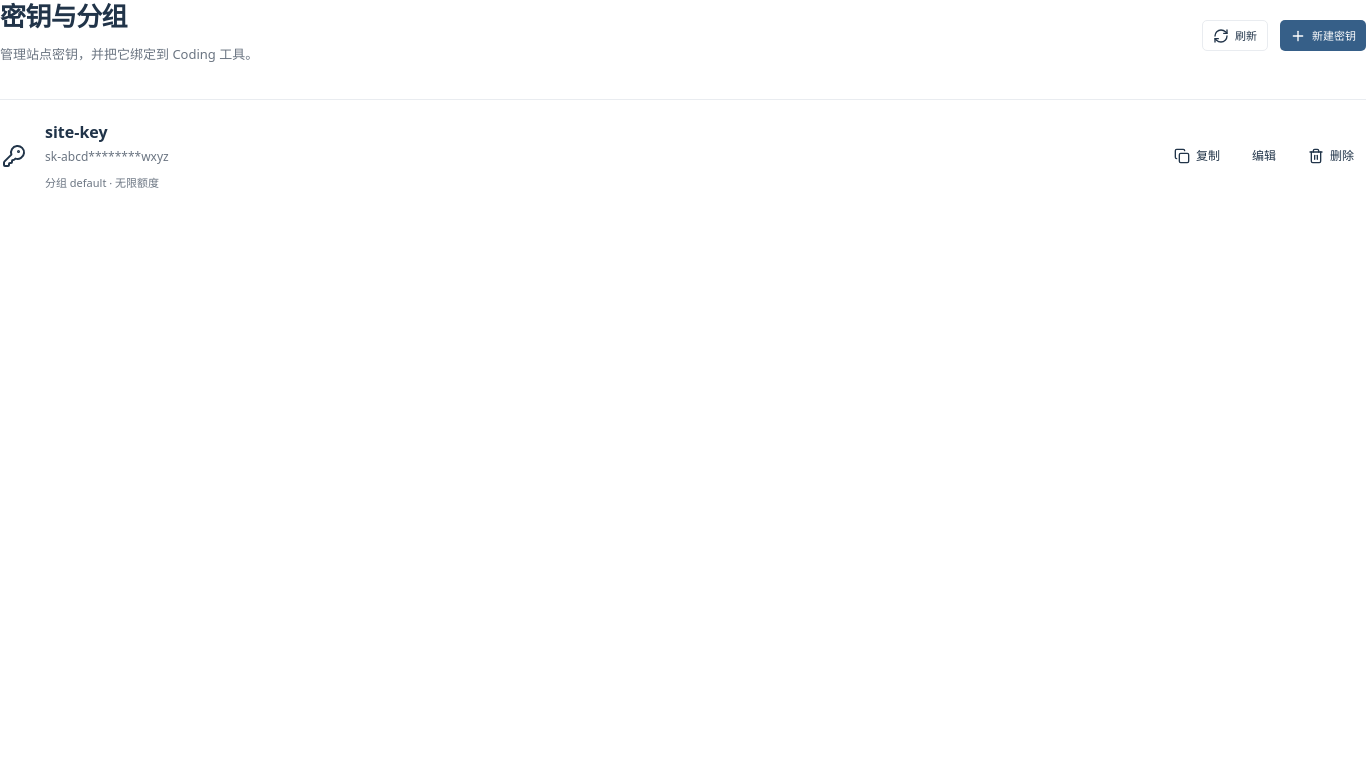
Test: 删除被引用的密钥前提示引用数量
Click the button "删除".
click(1331, 156)  # box [1298,140,1364,172]
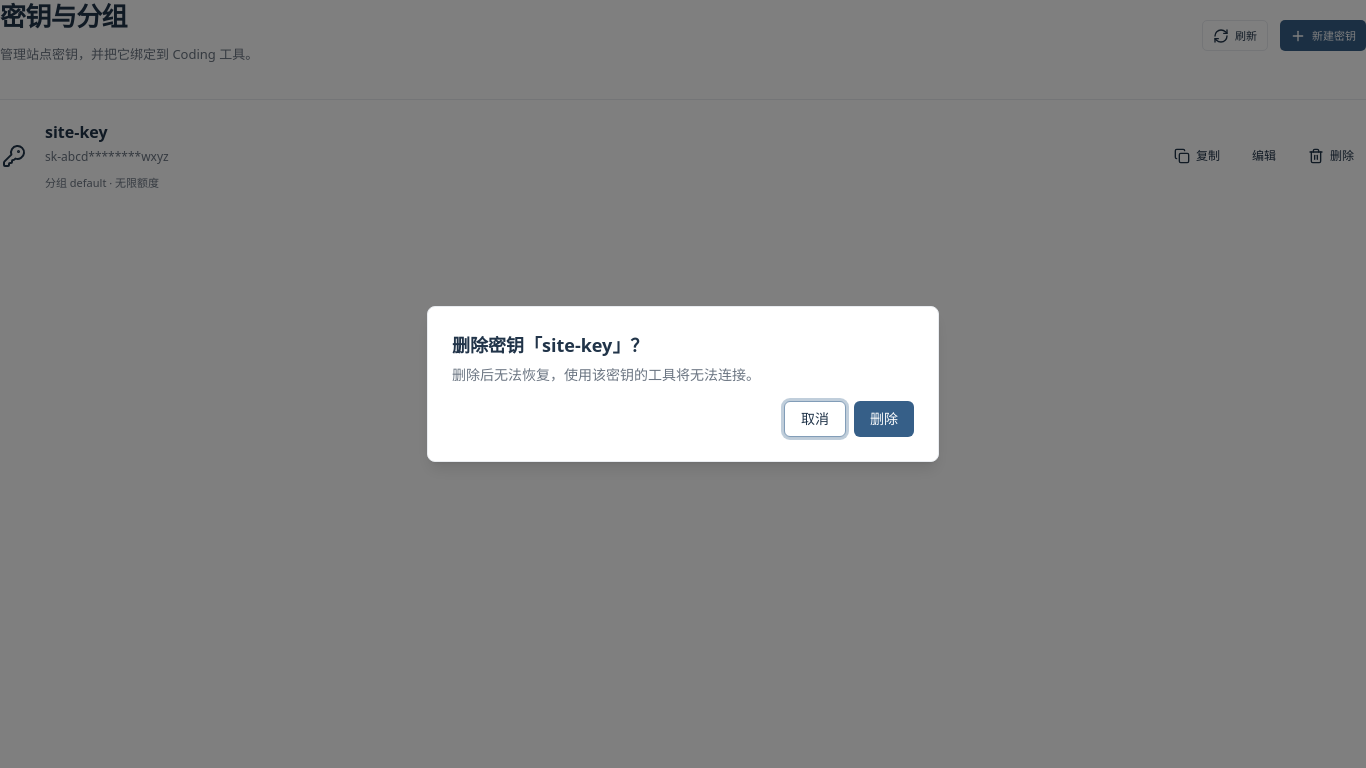
Result: the heading "删除密钥「site-key」？" is shown at [452,331,648,359]
